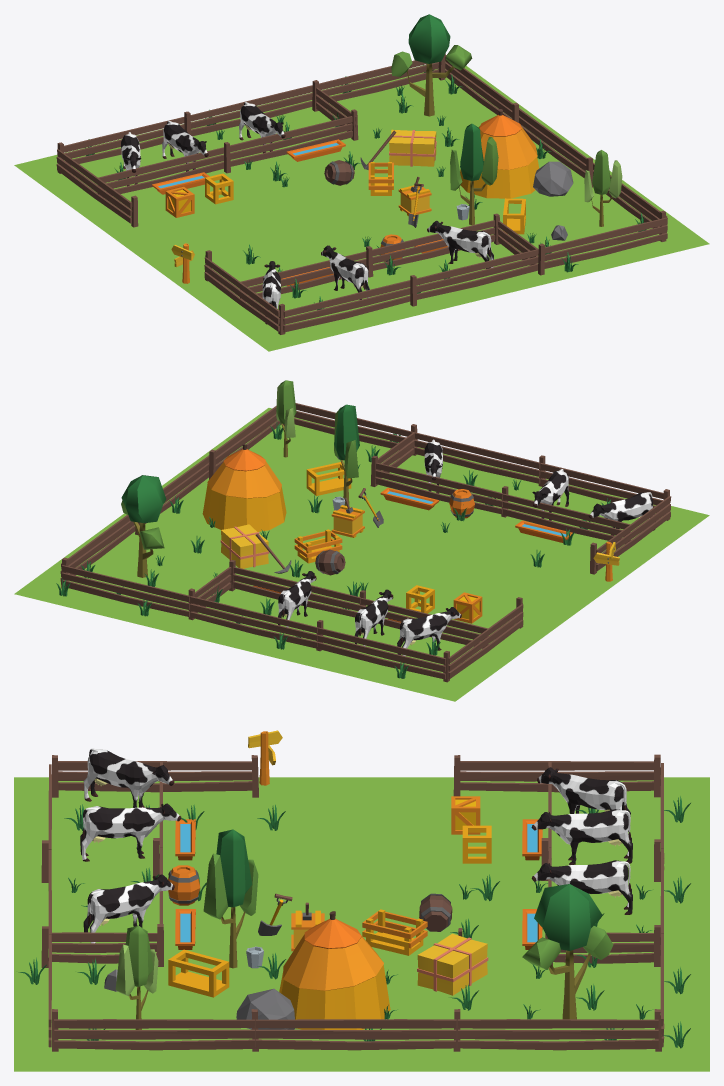
The model's file is Map - Farm.fbx.
3 renders of one model, top to bottom at view 1: azimuth 30°, elevation 25°; view 2: azimuth 150°, elevation 25°; view 3: azimuth 270°, elevation 25°, orthographic. The views are drawn at different scales.
Visible parts, largest first — view 1: pPlane1, polySurface77, polySurface60, polySurface69, polySurface22, cay_3, cay_4, polySurface64, polySurface52, polySurface24, cay_2, vache7 (+25 smaller); view 2: pPlane1, polySurface60, polySurface77, polySurface22, polySurface69, cay_3, polySurface64, polySurface52, cay_4, polySurface24, vache10, vache5 (+25 smaller); view 3: pPlane1, polySurface69, polySurface22, cay_3, polySurface64, polySurface52, cay_4, polySurface24, vache6, vache9, vache5, vache7 (+22 smaller).
Boxes of the visible parts, x1=… form: pPlane1: x1=14, y1=61, x2=709, y2=351; polySurface77: x1=283, y1=210, x2=667, y2=332; polySurface60: x1=64, y1=60, x2=438, y2=165; polySurface69: x1=438, y1=53, x2=667, y2=232; polySurface22: x1=460, y1=109, x2=539, y2=198; cay_3: x1=391, y1=14, x2=472, y2=116; cay_4: x1=450, y1=123, x2=498, y2=225; polySurface64: x1=56, y1=142, x2=138, y2=227; polySurface52: x1=204, y1=250, x2=285, y2=334; polySurface24: x1=389, y1=129, x2=436, y2=166; cay_2: x1=584, y1=150, x2=622, y2=226; vache7: x1=427, y1=220, x2=493, y2=268; pPlane1: x1=14, y1=408, x2=709, y2=701; polySurface60: x1=61, y1=565, x2=446, y2=679; polySurface77: x1=283, y1=403, x2=663, y2=511; polySurface22: x1=202, y1=444, x2=286, y2=531; polySurface69: x1=60, y1=405, x2=281, y2=588; cay_3: x1=121, y1=475, x2=166, y2=577; polySurface64: x1=443, y1=597, x2=523, y2=682; polySurface52: x1=590, y1=489, x2=671, y2=574; cay_4: x1=334, y1=404, x2=359, y2=505; polySurface24: x1=220, y1=524, x2=269, y2=568; vache10: x1=397, y1=607, x2=461, y2=655; vache5: x1=588, y1=492, x2=655, y2=535; pPlane1: x1=14, y1=777, x2=709, y2=1071; polySurface69: x1=54, y1=1009, x2=661, y2=1051; polySurface22: x1=279, y1=911, x2=390, y2=1029; cay_3: x1=522, y1=884, x2=613, y2=1019; polySurface64: x1=453, y1=754, x2=660, y2=797; polySurface52: x1=52, y1=755, x2=258, y2=797; cay_4: x1=203, y1=829, x2=258, y2=968; polySurface24: x1=417, y1=933, x2=488, y2=995; vache6: x1=80, y1=803, x2=181, y2=861; vache9: x1=531, y1=809, x2=632, y2=864; vache5: x1=83, y1=748, x2=174, y2=807; vache7: x1=83, y1=874, x2=174, y2=943.
Bounding box in the file's own units: 73.33 × 16.5 × 72.99.
